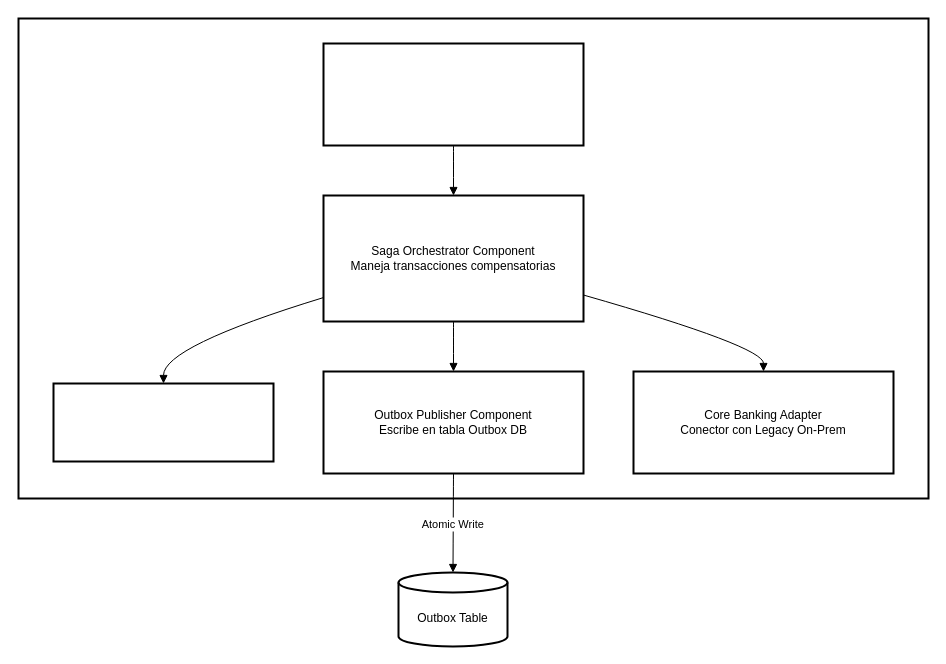
The diagram is 946 pixels wide and 664 high, and some of its shapes have lost their labels. Here are the shapes that lost their labels. From the top down, the centre of each, then its label:
At (453,94): "Transfer API Controller Expone endpoints REST/gRPC".
At (163,422): "Fraud Check Client Integración con MLaaS".
